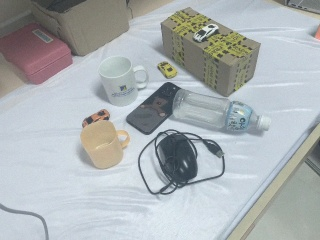bottle: (171, 88, 272, 137)
box: (160, 7, 260, 98), (31, 1, 133, 59), (1, 22, 73, 86)
cup: (79, 109, 132, 170), (98, 54, 144, 109)
mouse: (157, 131, 200, 185)
toy_car: (194, 24, 221, 44), (81, 108, 111, 123), (157, 61, 178, 79)
